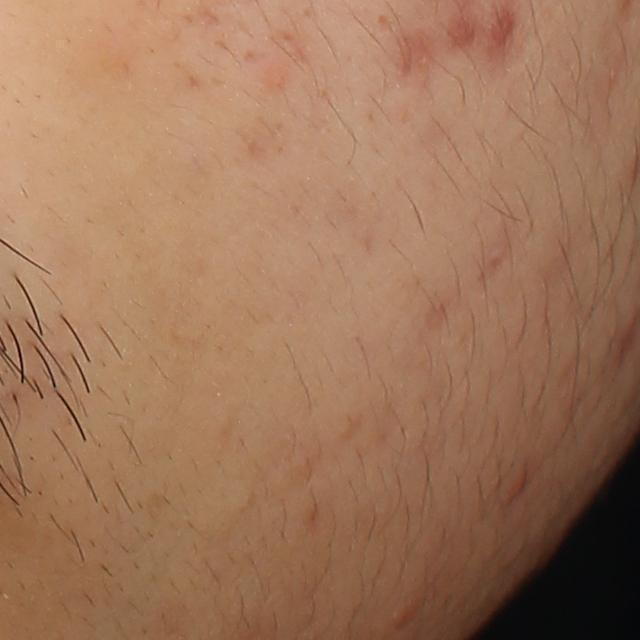papule: (383, 589, 425, 632), (508, 467, 530, 499)
